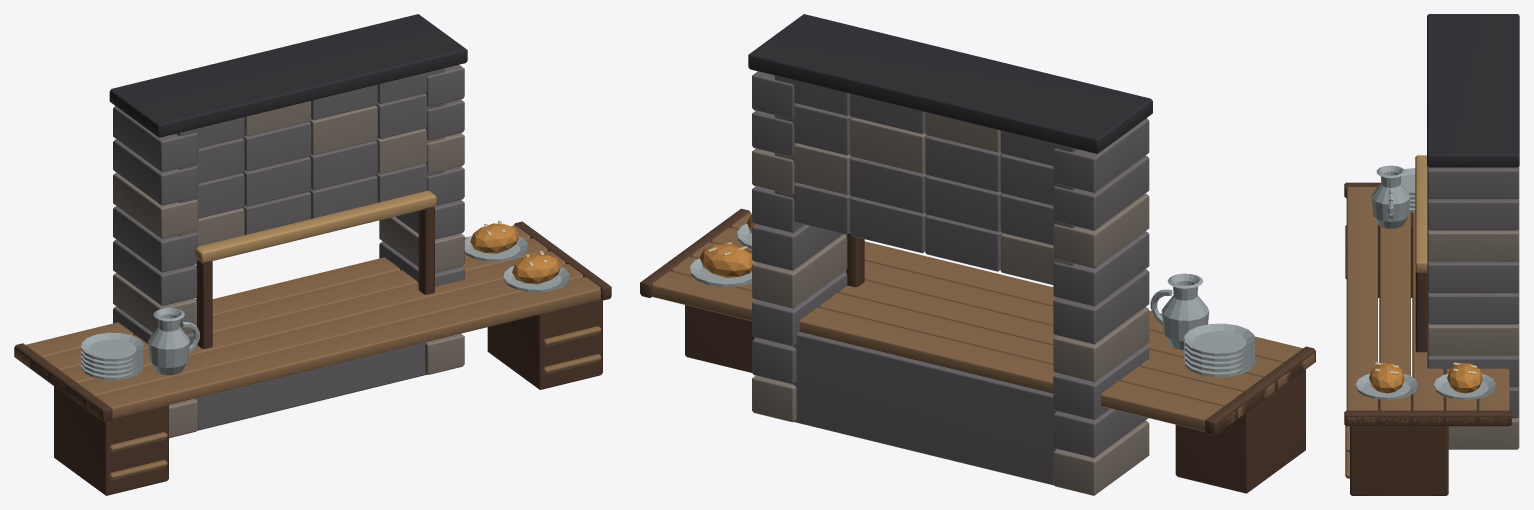
File: feast_serving_hatch.glb
3 renders of one model, left to right at view 1: azimuth 30°, elevation 25°; view 2: azimuth 150°, elevation 25°; view 3: azimuth 270°, elevation 25°, orthographic. The views are drawn at different scales.
Parts seen in each view (by area): view 1: feast_serving_hatch; view 2: feast_serving_hatch; view 3: feast_serving_hatch.
Part boxes in pixels (x1,y1,x2,y2): feast_serving_hatch: (14,14,611,495); feast_serving_hatch: (640,14,1315,495); feast_serving_hatch: (1344,14,1519,495).
Bounding box in the file's own units: 6.7 × 4.01 × 2.13.
